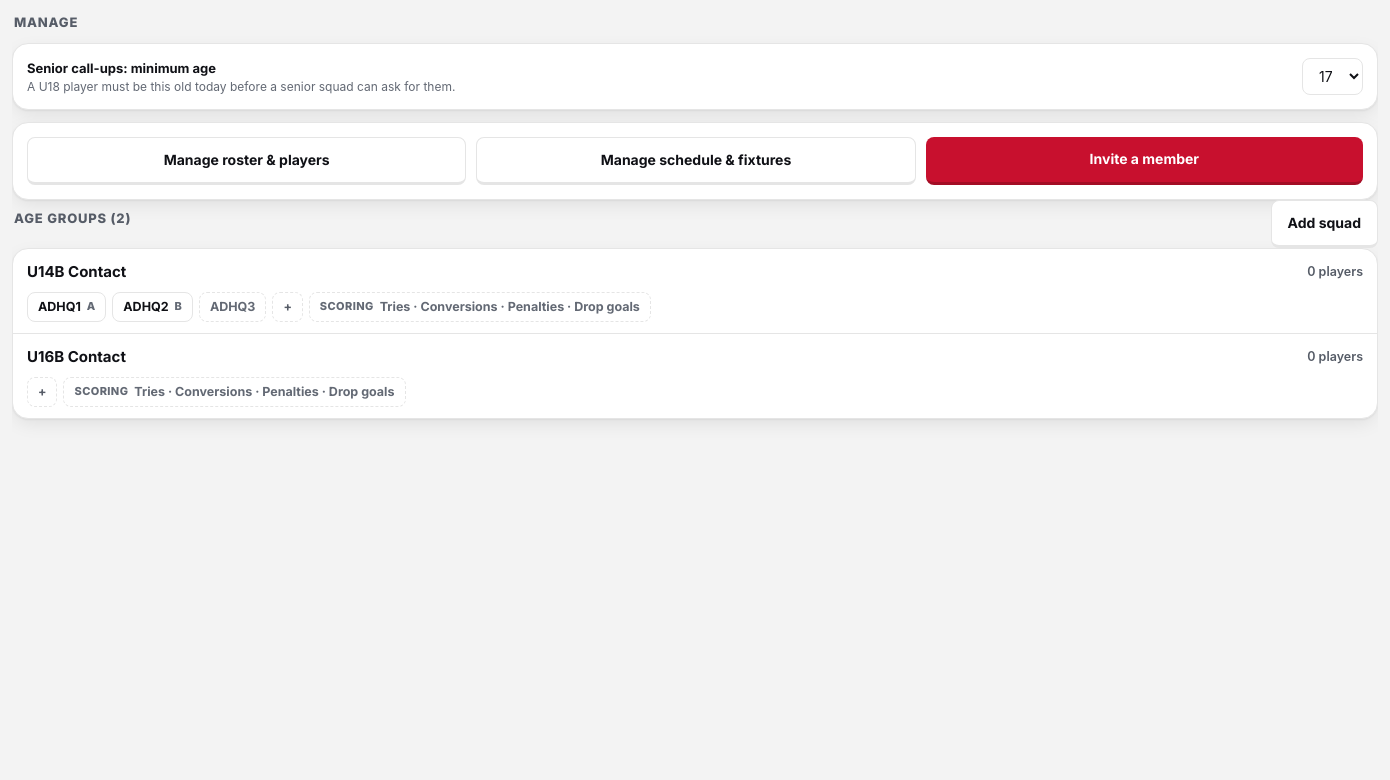
it: AdminClub — the club's league teams › retires through setLeagueTeamActive, and offers to bring a retired one back
The width and height of the screenshot is (1390, 780).
Click the button with aria-label "ADHQ2, Division B".
click(153, 307)  # box [112,292,193,322]
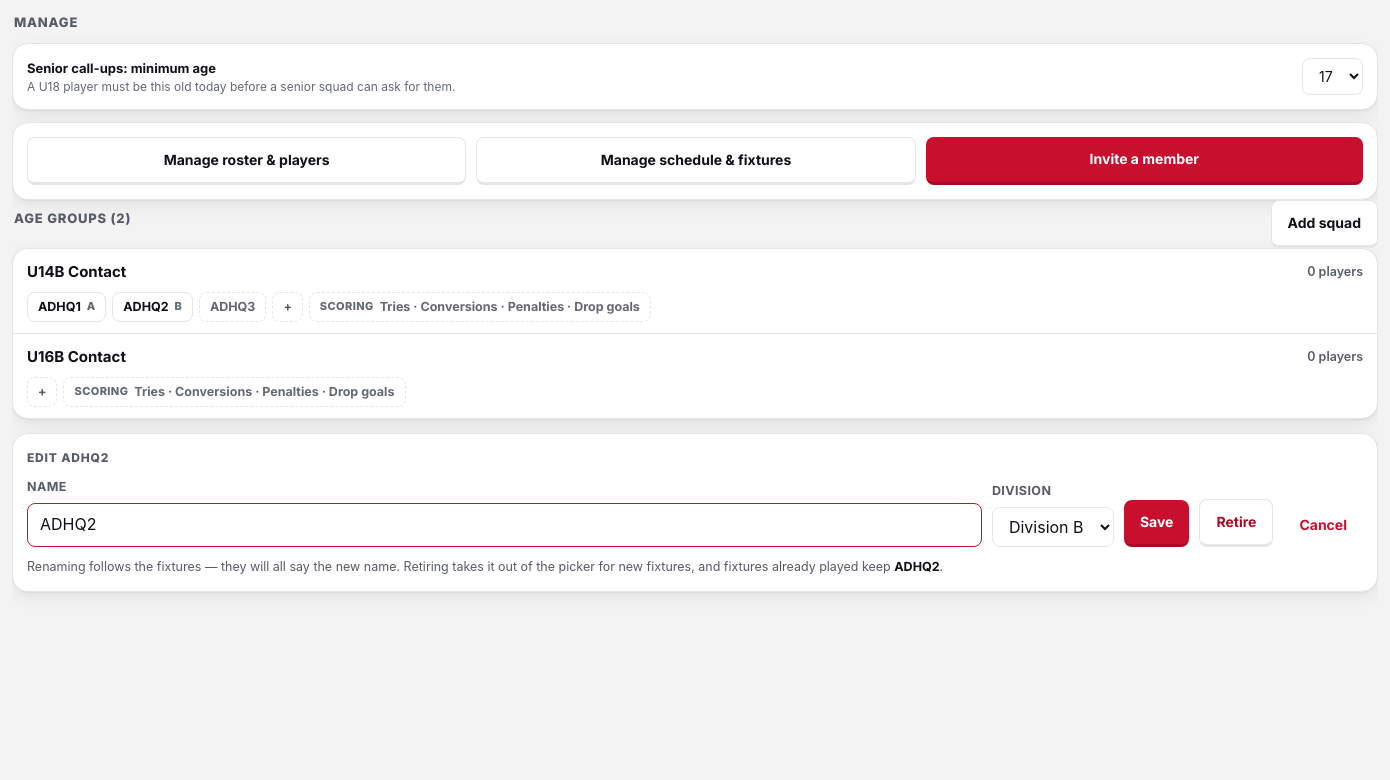
Click the button "Retire".
click(1236, 523)  # box [1199,499,1273,547]
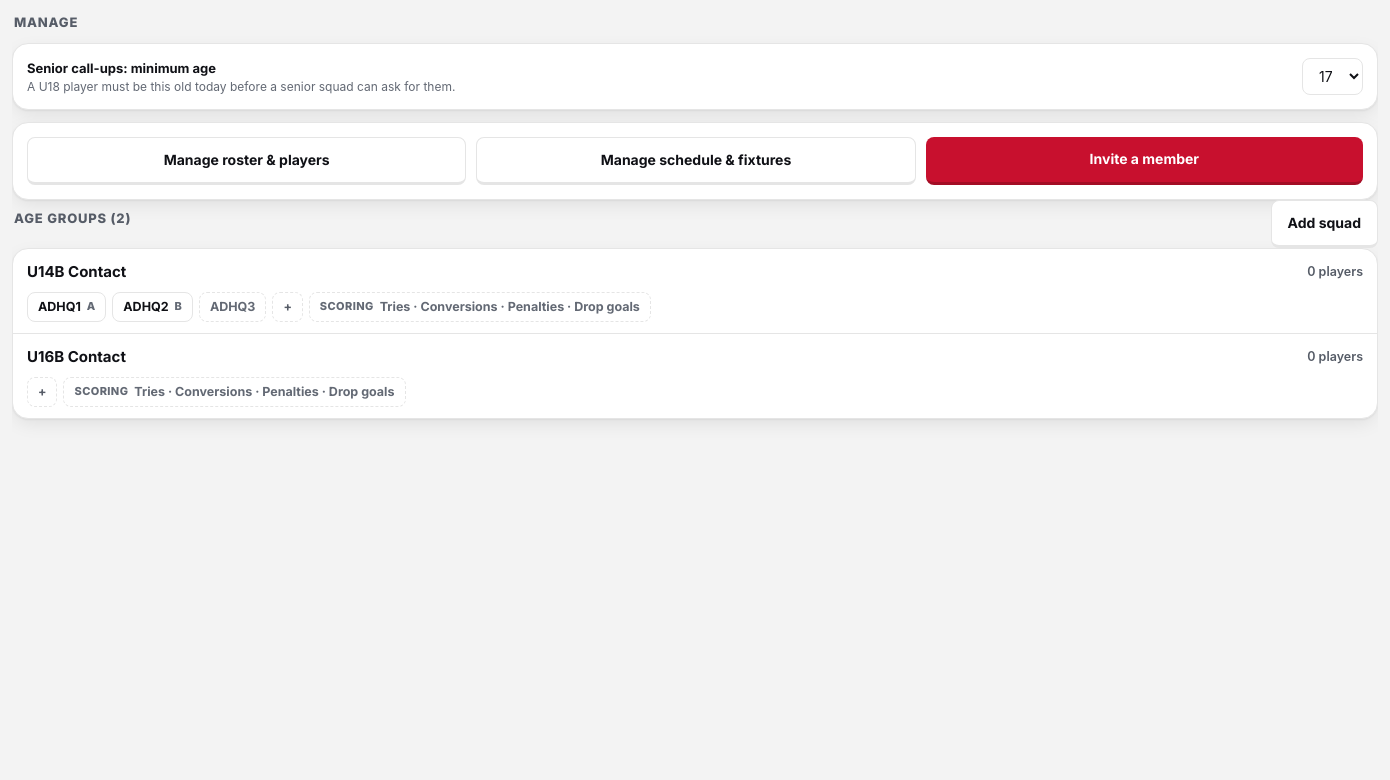
Click the button with aria-label "ADHQ3, retired".
click(233, 307)  # box [199,292,266,322]
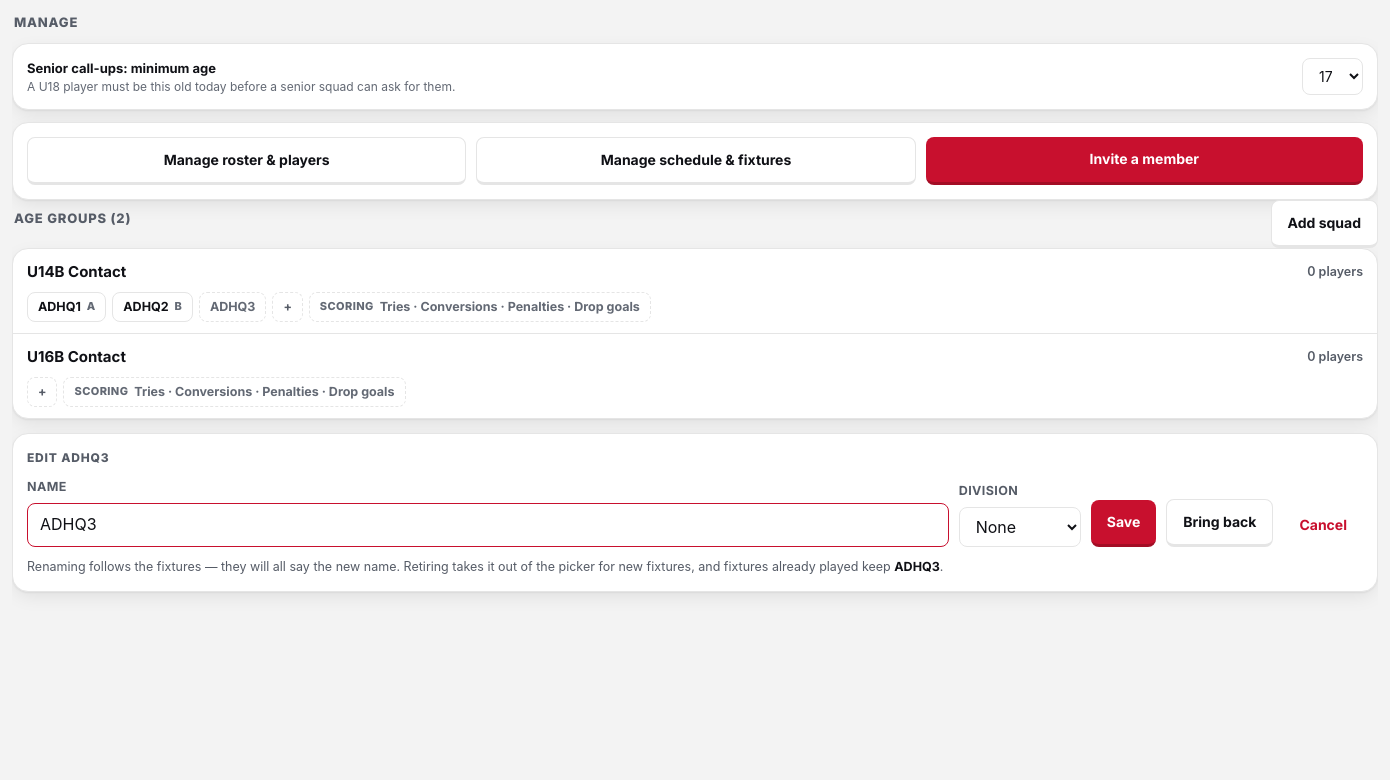
Expected: the button "Bring back" is shown, [1166,499,1274,547]
